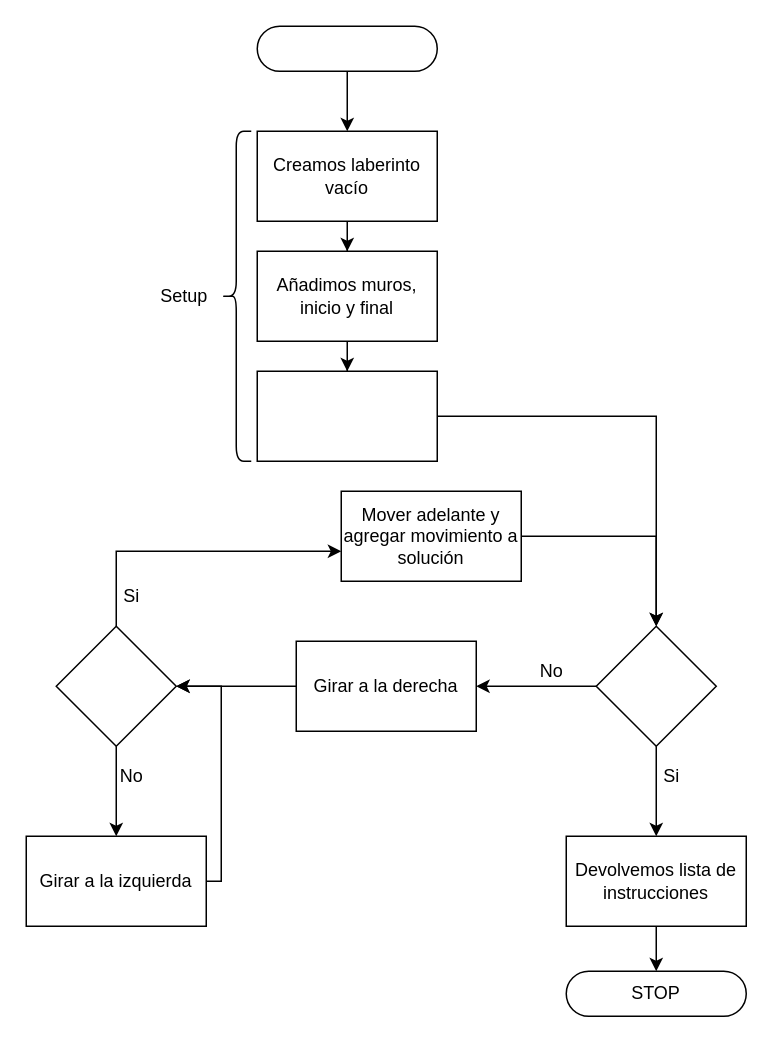
Image size: 773x1043. Some labels were removed from this diagram. The box of each missing label's shape, as (x1, y1, x2, y2) in pixels:
Colocamos personaje en inicio: (256, 370, 437, 461)
En el final?: (595, 625, 716, 746)
Puede ir adelante?: (55, 625, 176, 746)
START: (256, 25, 437, 71)
